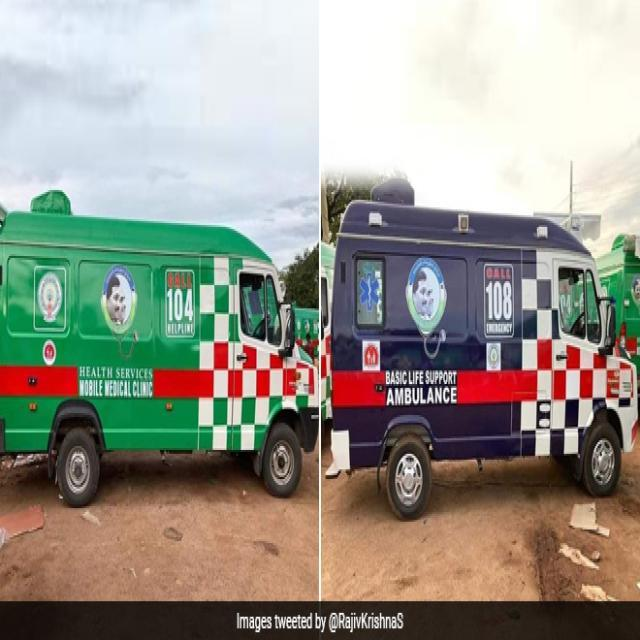ambulance: (325, 190, 640, 528), (0, 206, 320, 513)
